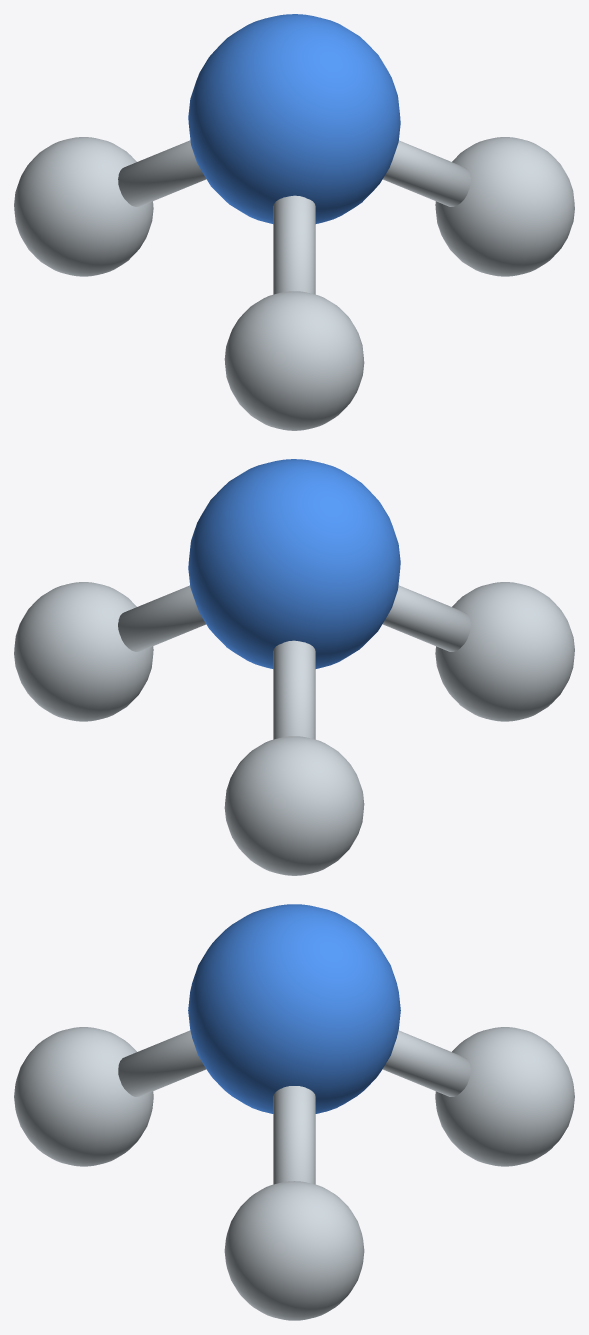
Rendered from ammonia-molecule-quality.glb.
3 views of the same model, one above another, from view 1: azimuth 30°, elevation 25°; view 2: azimuth 150°, elevation 25°; view 3: azimuth 270°, elevation 25° (orthographic).
Parts seen in each view (by area): view 1: Nitrogen; view 2: Nitrogen; view 3: Nitrogen.
Part boxes in pixels (x1,y1,x2,y2): Nitrogen: (14,14,574,430); Nitrogen: (14,459,574,875); Nitrogen: (14,904,574,1320).
Bounding box in the file's own units: 1.66 × 1.08 × 1.85.
